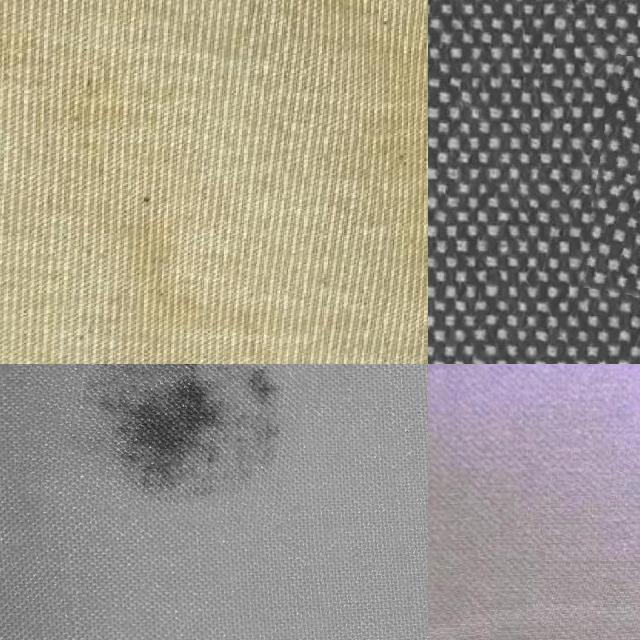Hole: (19, 364, 308, 528)
Thread_other: (587, 61, 640, 311)
